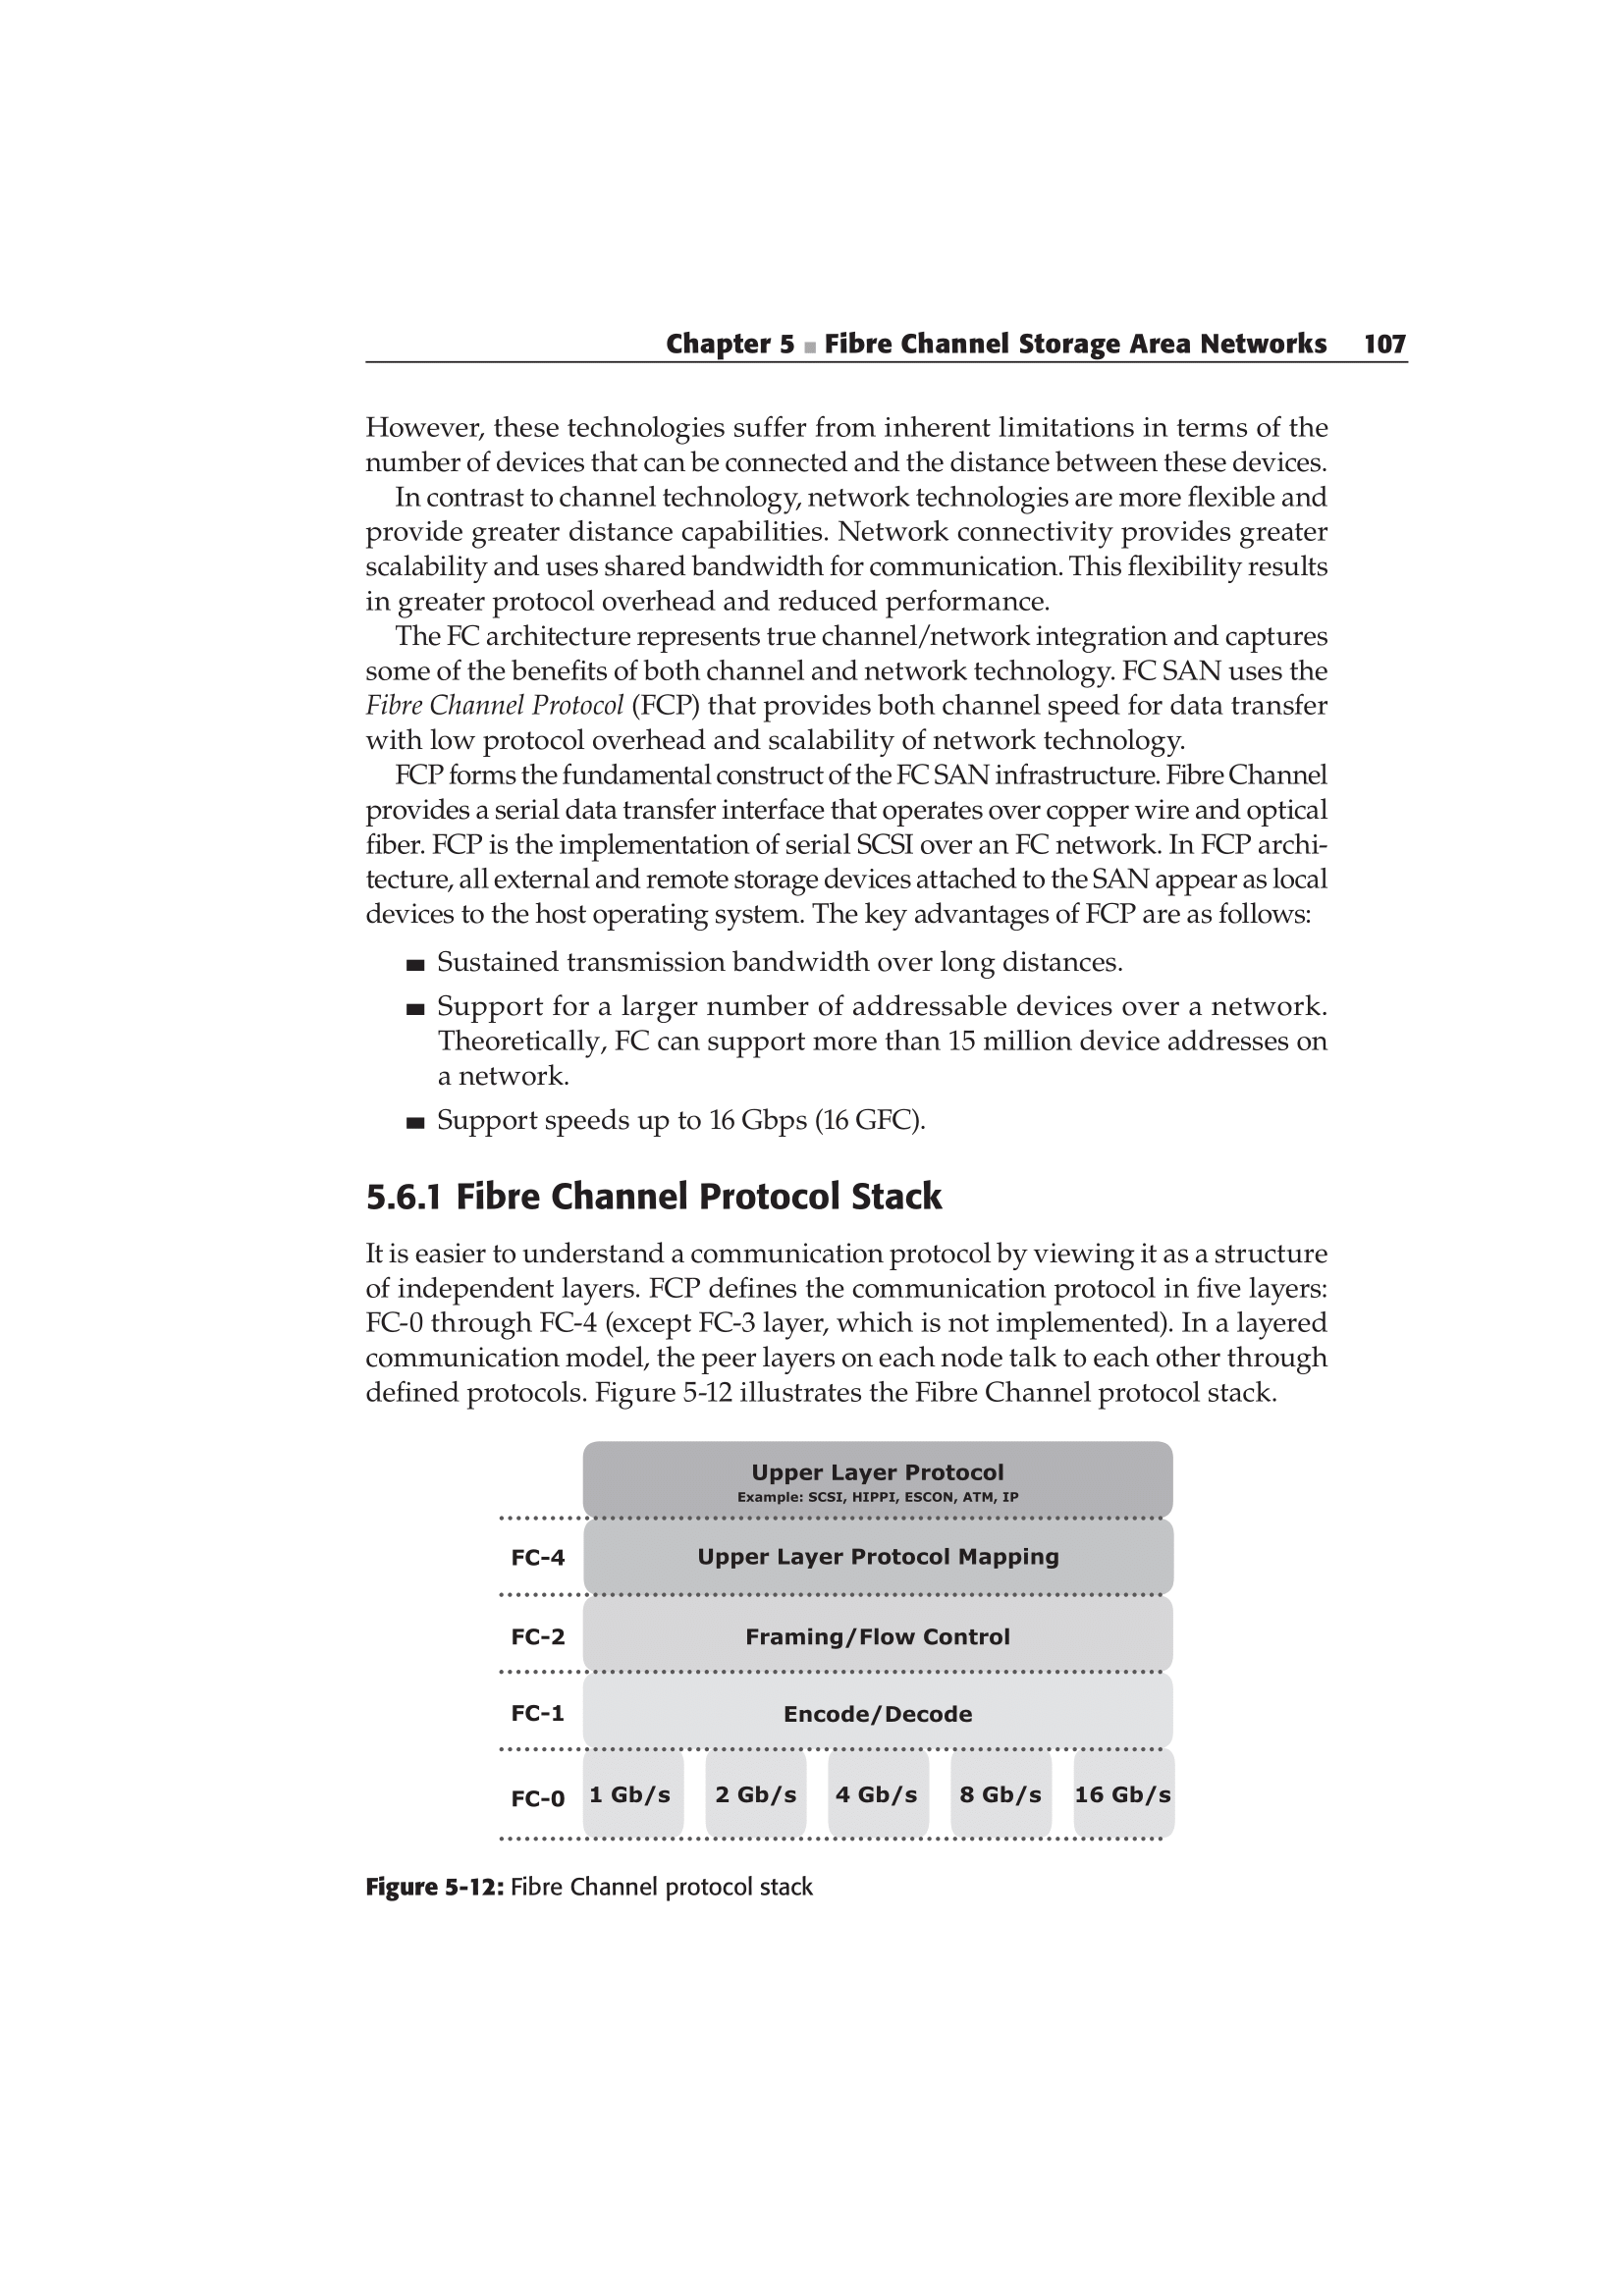Image: (520, 1452, 1205, 1854)
Paragraph: (320, 1218, 1370, 1429), (360, 771, 1324, 922), (365, 616, 1333, 762), (360, 479, 1333, 616), (434, 990, 1333, 1109), (348, 393, 1342, 474), (625, 305, 1442, 365), (439, 927, 1159, 987), (337, 1848, 813, 1936), (334, 1164, 959, 1215), (439, 1109, 954, 1146)
